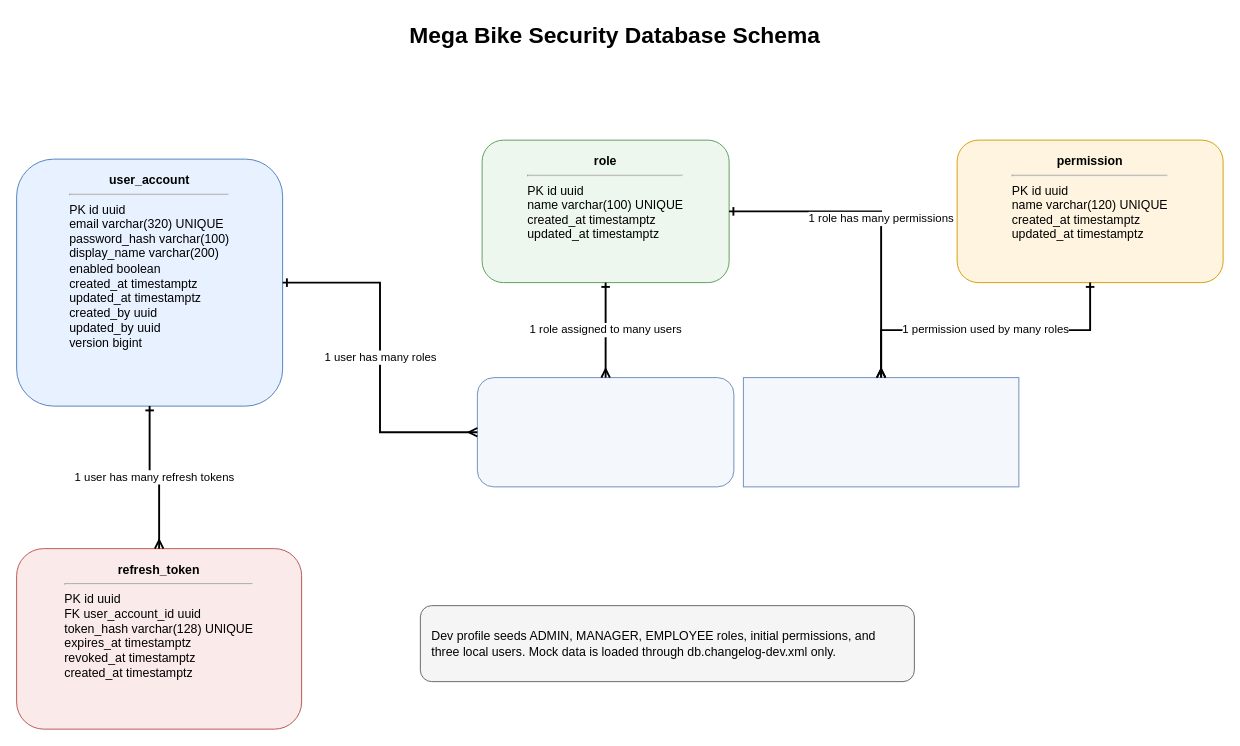
Image size: 1240x746. Some labels were removed from this diagram. Each missing label, with the box of its shape:
role_permission PK, FK role_id uuid PK, FK permission_id uuid: (742, 377, 1019, 487)
user_role PK, FK user_account_id uuid PK, FK role_id uuid: (476, 377, 734, 487)
